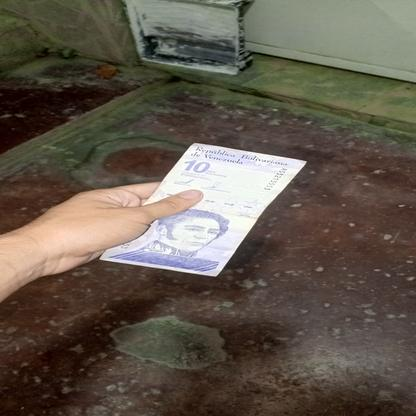ten-front-vef: (99, 143, 306, 276)
